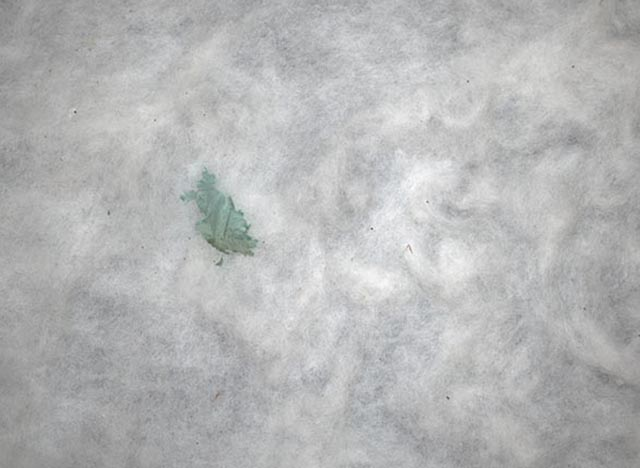plastic film: (180, 167, 258, 257)
